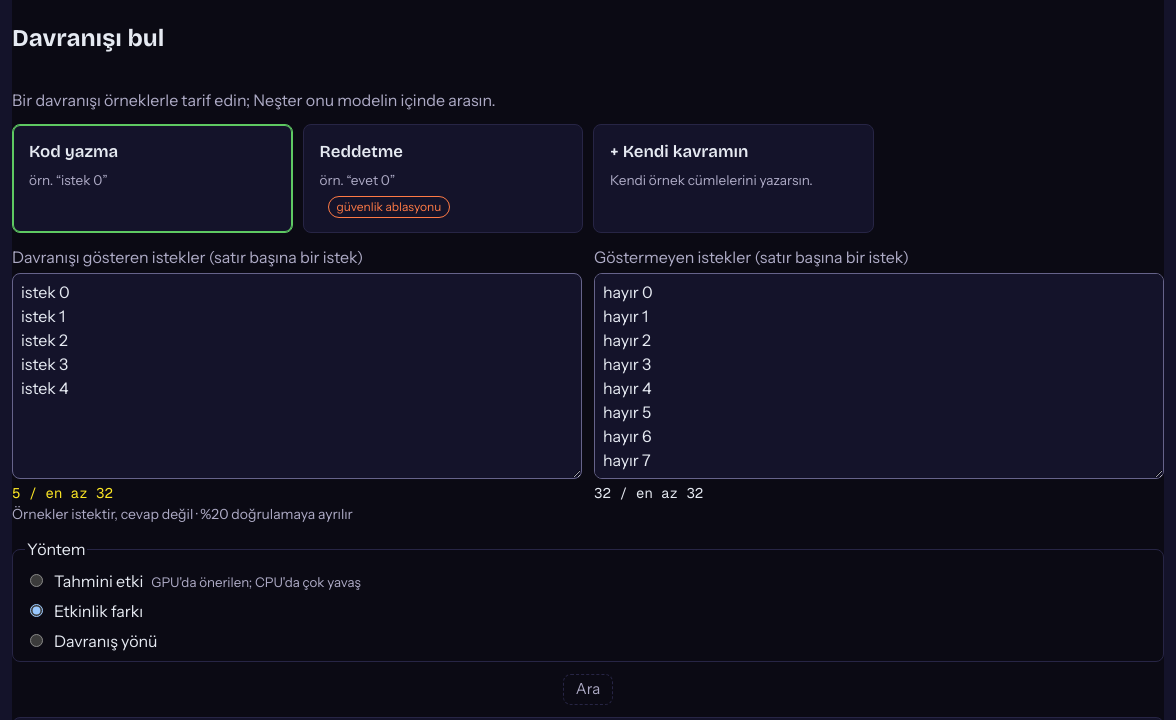
Test case: a preset with 32 examples per side can be searched, one with fewer cannot
expect the button "Ara" is disabled: met, box x1=563 y1=674 x2=613 y2=705
Click the radio button labelled "Reddetme" at {"x": 361, "y": 151}, box x1=302 y1=124 x2=583 y2=233
(page scrolled)
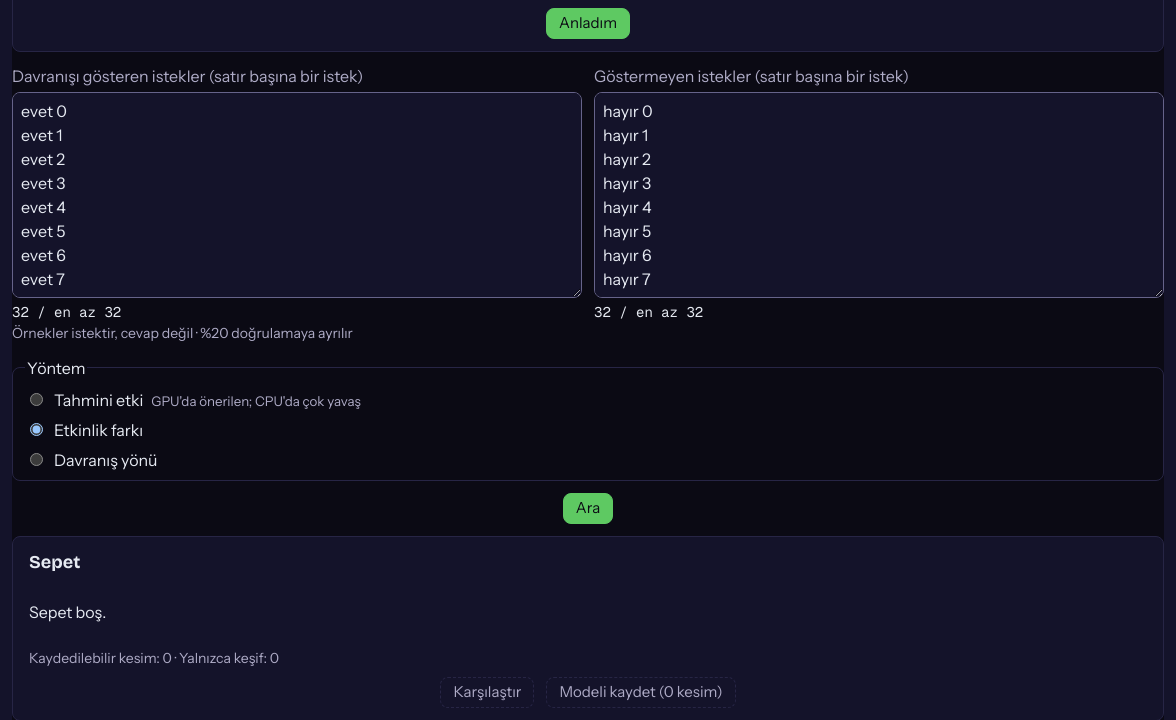
expect the button "Ara" is enabled: met, box x1=563 y1=493 x2=613 y2=524
